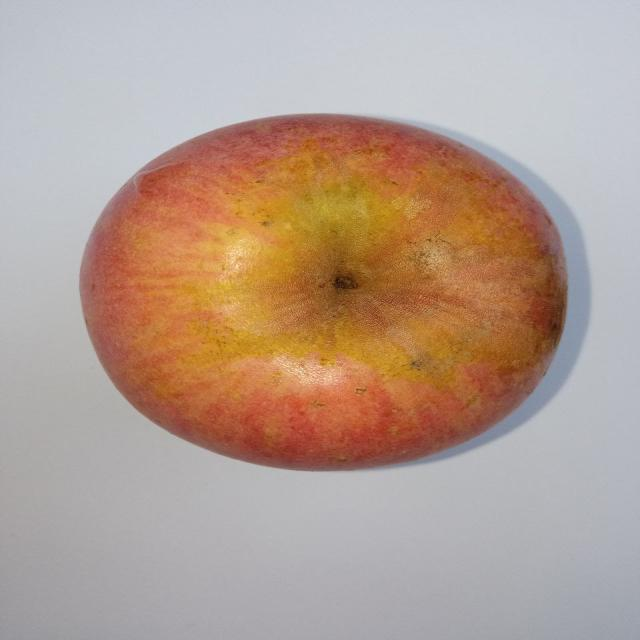fresh_apple: (78, 111, 568, 471)
